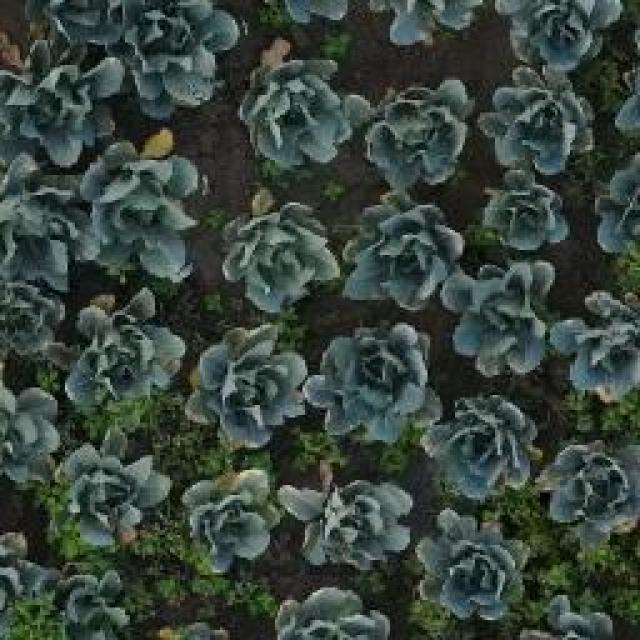cabbage: (83, 140, 203, 279), (0, 32, 118, 160), (67, 297, 184, 419), (242, 52, 362, 169), (188, 325, 304, 445), (310, 320, 427, 436), (218, 195, 328, 313), (114, 0, 234, 104), (365, 78, 471, 184), (483, 69, 592, 169), (424, 512, 519, 616), (299, 479, 407, 569), (356, 201, 449, 299), (453, 275, 546, 372), (547, 441, 640, 538), (186, 476, 280, 571), (436, 395, 532, 485), (66, 462, 160, 550), (0, 263, 68, 372), (503, 0, 622, 62), (487, 177, 568, 255), (580, 308, 640, 388)
